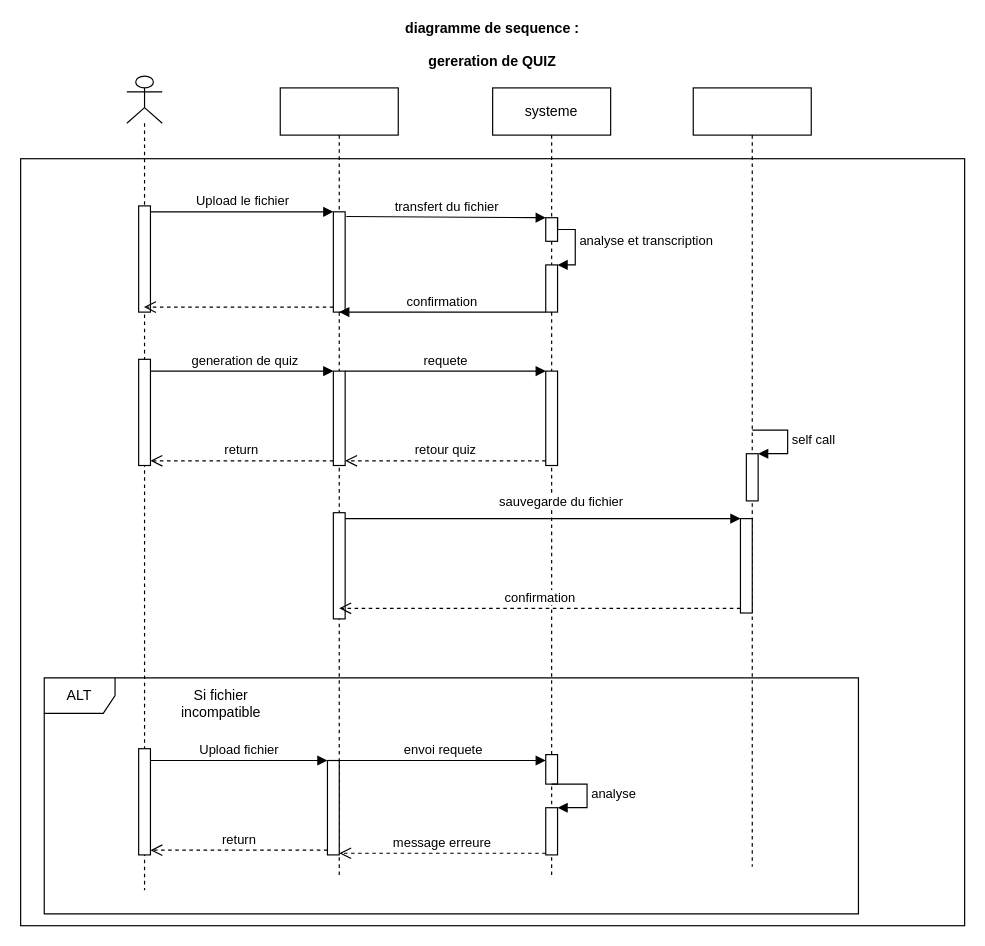
Image size: 985x946. Some labels were removed from this diagram. The shapes that lost their labels are listed below. From the top down, each one's centre as x and y in pixels, then its label:
At [338,483]: "interface".
At [751,477]: "base de donnees".
